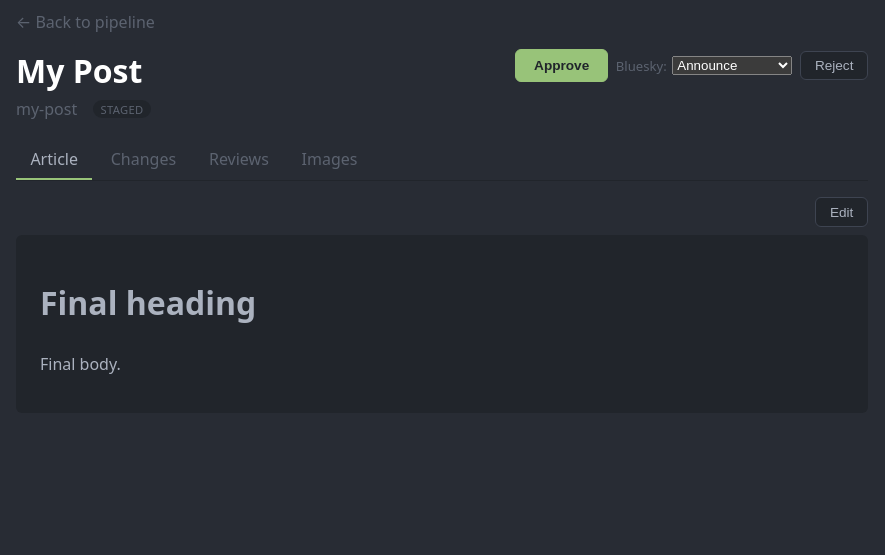
PostDetail — content › the Reviews tab shows verdicts and the edited badge
Expected: the heading "My Post" is shown, [16,49,151,92]
Click the button "Reviews" at (239, 160), box [194,140,283,180]
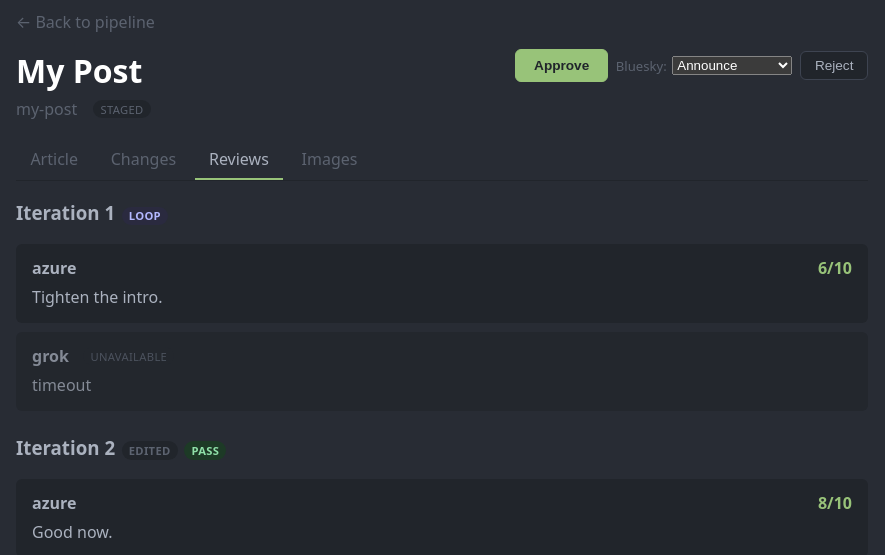
Expected: the text "Tighten the intro." is shown, [32,286,162,308]
Expected: the text "timeout" is shown, [32,374,91,396]
Expected: the text "edited" is shown, [122,441,178,460]
